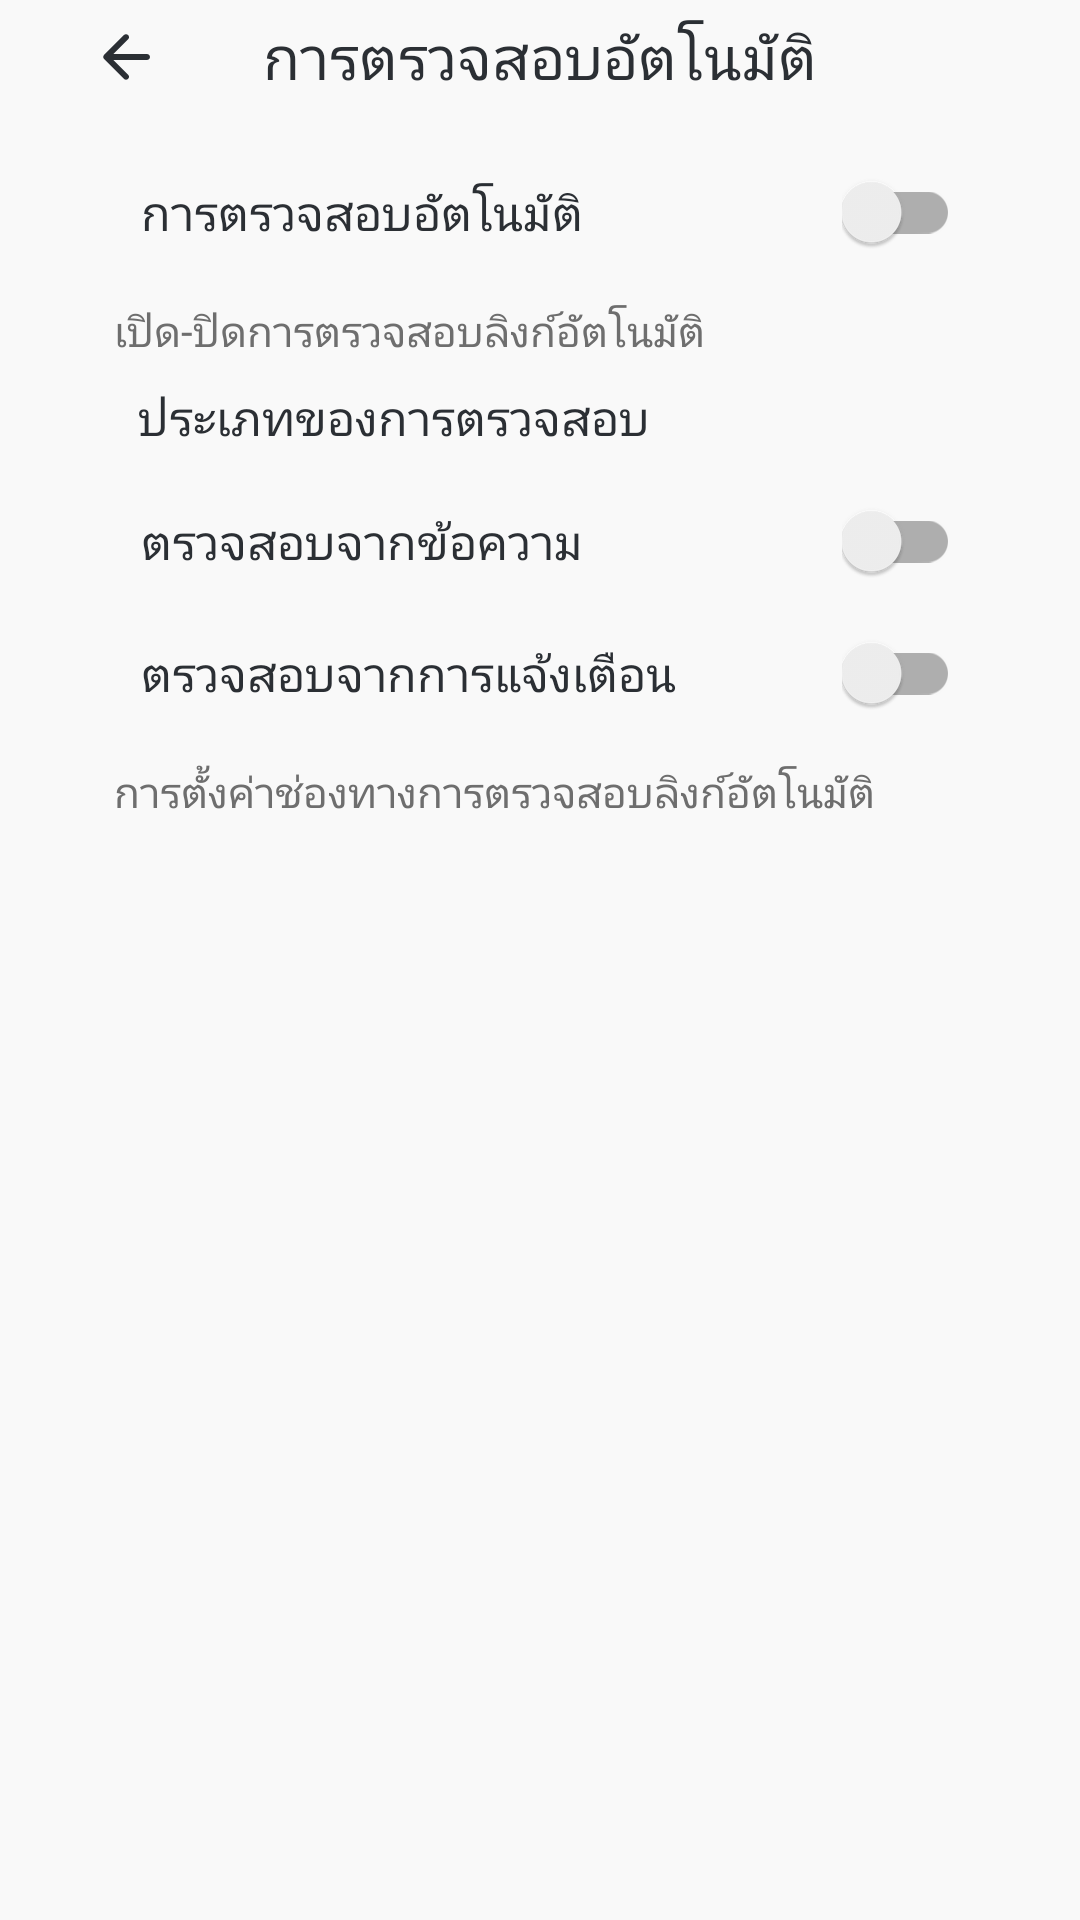

Where icons sit on this 1080×1920 app screen, as (x1,y1,x2,y2):
ย้อนกลับ: (103,34,150,80)
